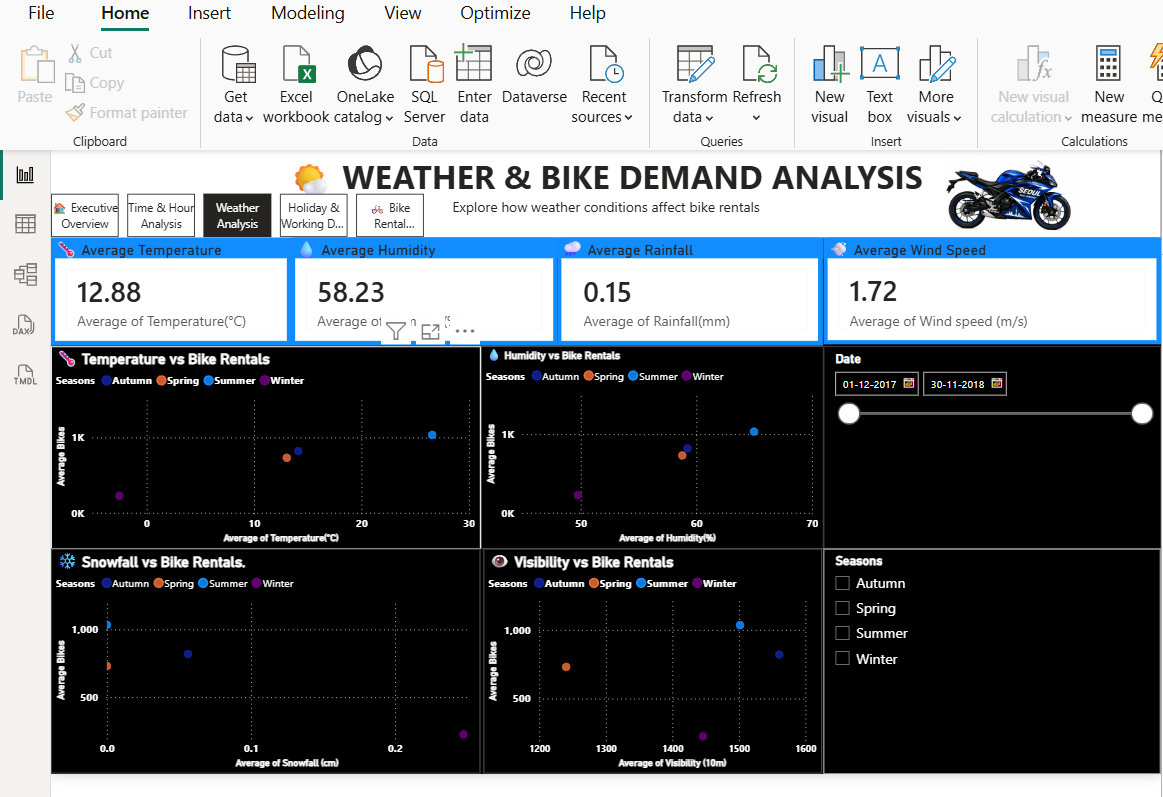

What the dashboard file says about the page in this screenshot:
{"tool":"powerbi","page":{"name":"Weather Analysis","canvas":[1280,720],"ordinal":2},"visuals":[{"type":"textbox","box":[0,0,1280.3,101.5],"z":0},{"type":"image","box":[977,0,255.2,101.5],"z":1000},{"type":"cardVisual","title":"🌡️ Average Temperature","fields":{"Data":["Avg(SeoulBikeData.Temperature(°C))"]},"box":[0,101.5,277.2,124.9],"z":2000},{"type":"cardVisual","title":"💧 Average Humidity","fields":{"Data":["Avg(SeoulBikeData.Humidity(%))"]},"box":[277.2,101.5,307.4,124.9],"z":3000},{"type":"cardVisual","title":"🌧️ Average Rainfall","fields":{"Data":["Avg(SeoulBikeData.Rainfall(mm))"]},"box":[584.6,101.5,306,124.9],"z":4000},{"type":"cardVisual","title":"💨 Average Wind Speed","fields":{"Data":["Avg(SeoulBikeData.Wind speed (m/s))"]},"box":[890.6,101.5,389.7,123.5],"z":5000},{"type":"scatterChart","title":"🌡️ Temperature vs Bike Rentals","fields":{"X":["Avg(SeoulBikeData.Temperature(°C))"],"Y":["SeoulBikeData.Average Bikes"],"Series":["SeoulBikeData.Seasons"]},"box":[0,226.4,495.4,233.3],"z":6000},{"type":"scatterChart","title":"💧 Humidity vs Bike Rentals","fields":{"X":["Avg(SeoulBikeData.Humidity(%))"],"Y":["SeoulBikeData.Average Bikes"],"Series":["SeoulBikeData.Seasons"]},"box":[495.4,226.4,395.2,233.3],"z":7000},{"type":"scatterChart","title":"❄️ Snowfall vs Bike Rentals.","fields":{"X":["Avg(SeoulBikeData.Snowfall (cm))"],"Y":["SeoulBikeData.Average Bikes"],"Series":["SeoulBikeData.Seasons"]},"box":[0,459.7,495.4,259.3],"z":8000},{"type":"scatterChart","title":"👁️ Visibility vs Bike Rentals","fields":{"X":["Avg(SeoulBikeData.Visibility (10m))"],"Y":["SeoulBikeData.Average Bikes"],"Series":["SeoulBikeData.Seasons"]},"box":[498.9,459.9,390.7,259.5],"z":9000},{"type":"slicer","fields":{"Values":["SeoulBikeData.Date"]},"box":[891,226.4,389.3,233.6],"z":10000},{"type":"slicer","fields":{"Values":["SeoulBikeData.Seasons"]},"box":[891,460,389,260],"z":11000},{"type":"pageNavigator","box":[0,50.5,431.1,50.5],"z":11001}]}

Visuals, with their boxes in screenshot pixels (x1, y1, x2, y2):
textbox: region(48, 145, 1155, 233)
image: region(893, 145, 1113, 233)
"🌡️ Average Temperature" cardVisual: region(48, 233, 288, 341)
"💧 Average Humidity" cardVisual: region(288, 233, 554, 341)
"🌧️ Average Rainfall" cardVisual: region(554, 233, 818, 341)
"💨 Average Wind Speed" cardVisual: region(818, 233, 1155, 340)
"🌡️ Temperature vs Bike Rentals" scatterChart: region(48, 341, 477, 543)
"💧 Humidity vs Bike Rentals" scatterChart: region(477, 341, 818, 543)
"❄️ Snowfall vs Bike Rentals." scatterChart: region(48, 543, 477, 767)
"👁️ Visibility vs Bike Rentals" scatterChart: region(480, 543, 817, 767)
slicer - SeoulBikeData.Date: region(819, 341, 1155, 543)
slicer - SeoulBikeData.Seasons: region(819, 543, 1155, 768)
pageNavigator: region(48, 189, 421, 233)
